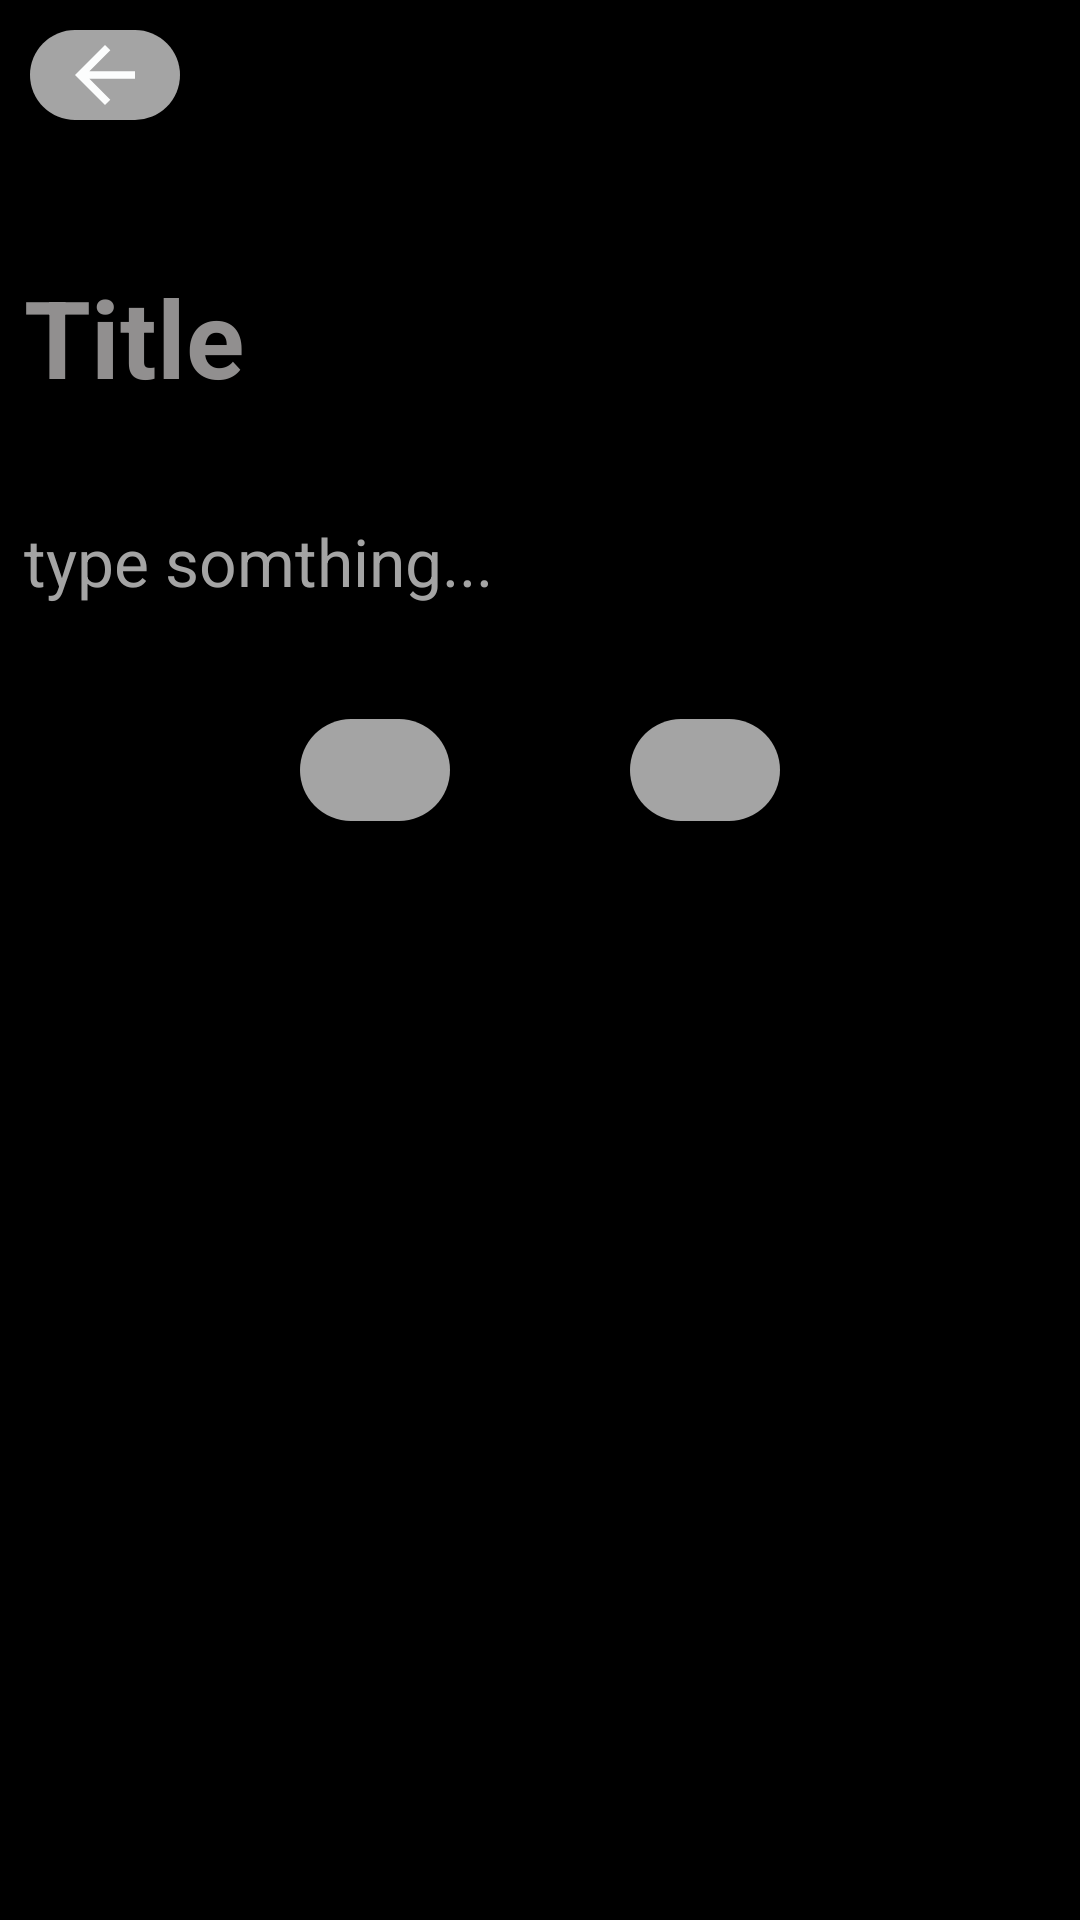

Icons on this 1080 x 1920 Android screen, each with the point to tap as [x,y]:
back: [105,75]
